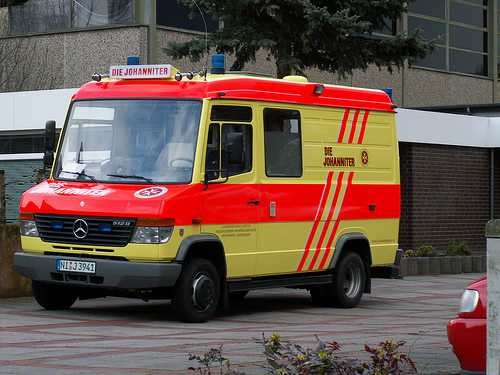Ambulance: (18, 53, 415, 316)
